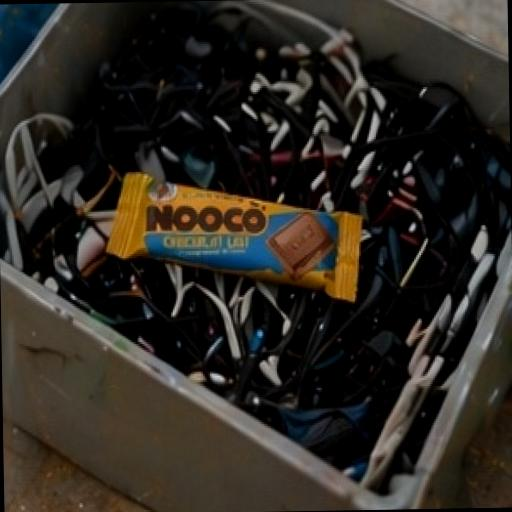biscuit-detection: (98, 126, 388, 336)
